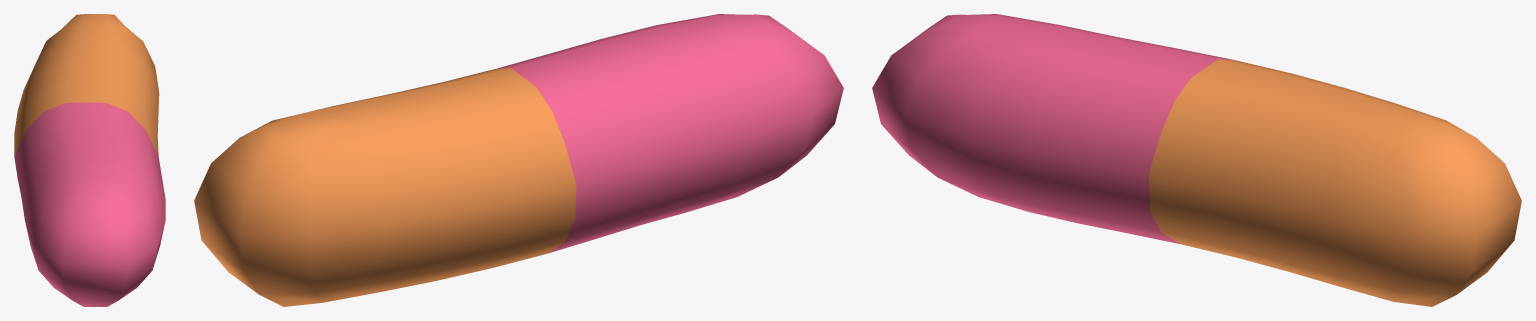
The model's file is candy_assets30.fbx.
The picture shows the model from 3 angles, left to right: view 1: azimuth 30°, elevation 25°; view 2: azimuth 150°, elevation 25°; view 3: azimuth 270°, elevation 25°; orthographic projection. The views are drawn at different scales.
Parts seen in each view (by area): view 1: candy_assets30; view 2: candy_assets30; view 3: candy_assets30.
Boxes of the visible parts, x1,y1,x2,y2 form: candy_assets30: (14, 14, 165, 306); candy_assets30: (194, 14, 843, 306); candy_assets30: (872, 14, 1521, 306).
Bounding box in the file's own units: 397 × 176 × 596.
Materials: 1 (1 with a texture image).
